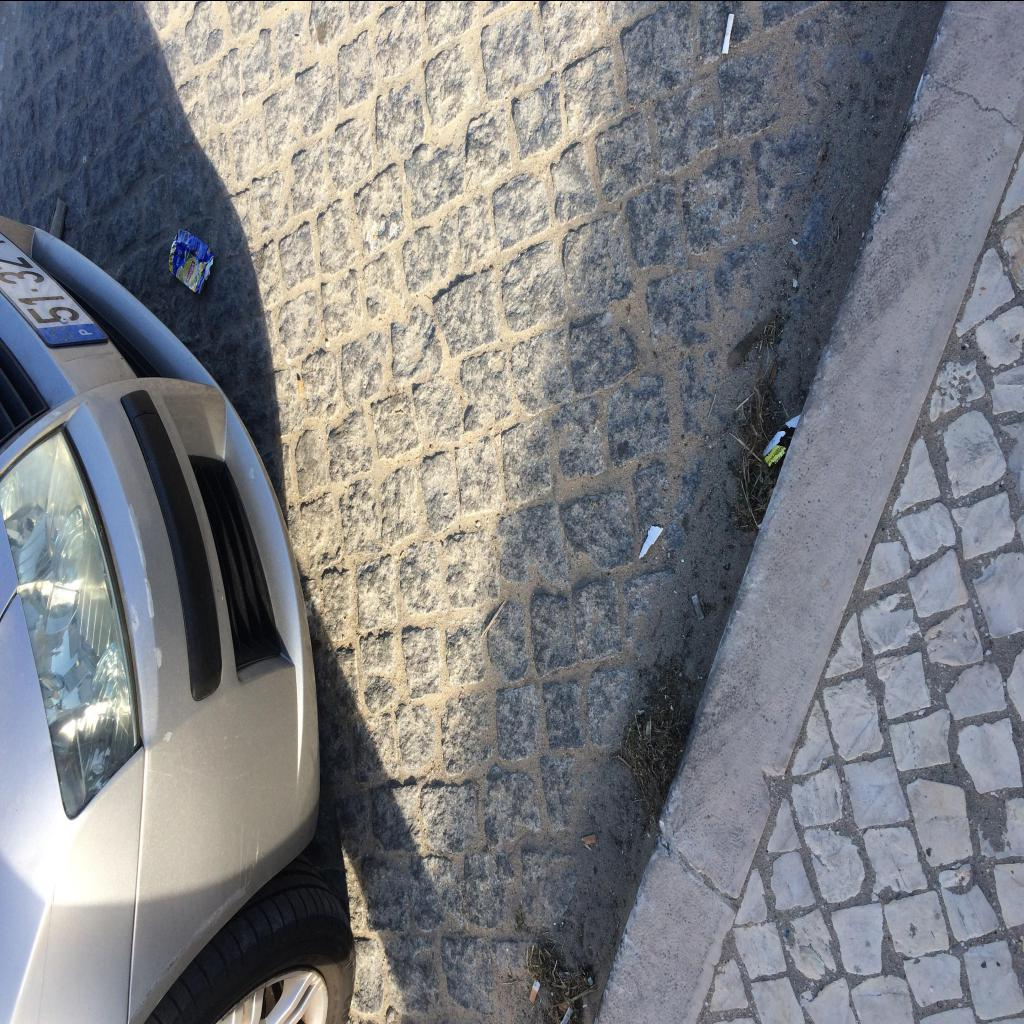Cigarette: (722, 14, 734, 54), (690, 592, 704, 619), (528, 978, 540, 1004), (560, 1006, 574, 1022), (582, 834, 597, 844), (296, 379, 304, 395)
Drink can: (169, 228, 214, 294)
Other plastic bottle: (640, 526, 664, 558)
Unlabeled litter: (762, 413, 802, 465)
